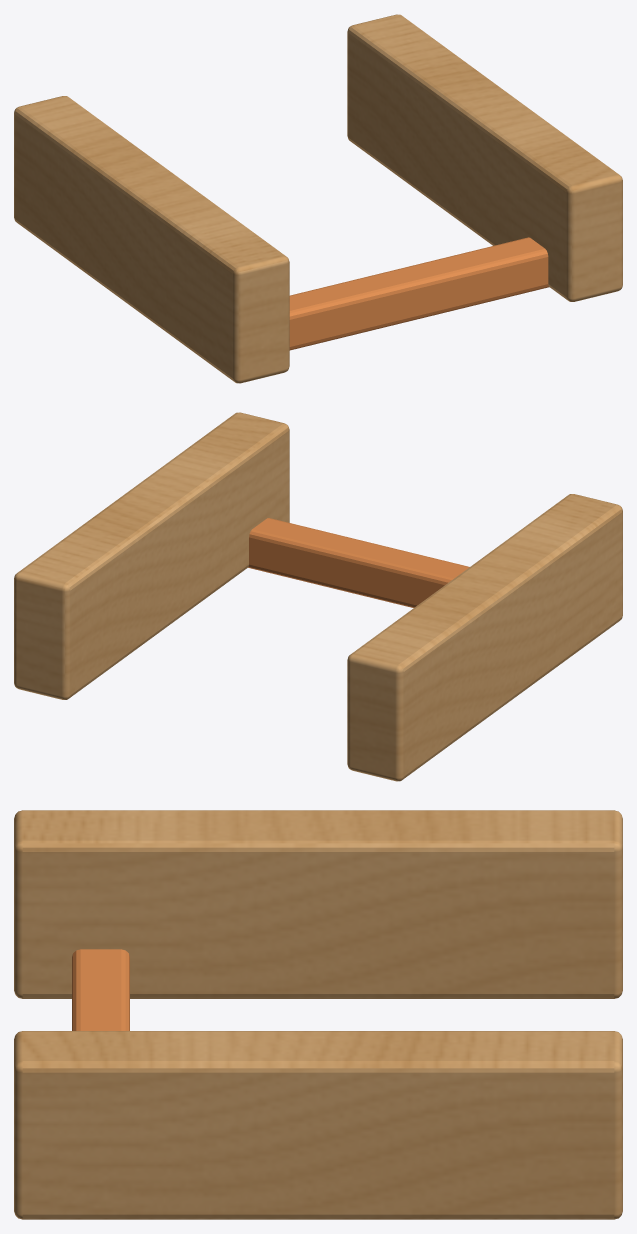
The model's file is oldcradle.glb.
The picture shows the model from 3 angles, top to bottom: view 1: azimuth 30°, elevation 25°; view 2: azimuth 150°, elevation 25°; view 3: azimuth 270°, elevation 25°; orthographic projection. The views are drawn at different scales.
Visible parts, largest first — view 1: oldcradle; view 2: oldcradle; view 3: oldcradle.
Part boxes in pixels (x1,y1,x2,y2): oldcradle: (14,14,622,383); oldcradle: (14,412,622,781); oldcradle: (14,810,622,1219).
Bounding box in the file's own units: 0.021 × 0.006 × 0.021.
Materials: 2 (1 with a texture image).
